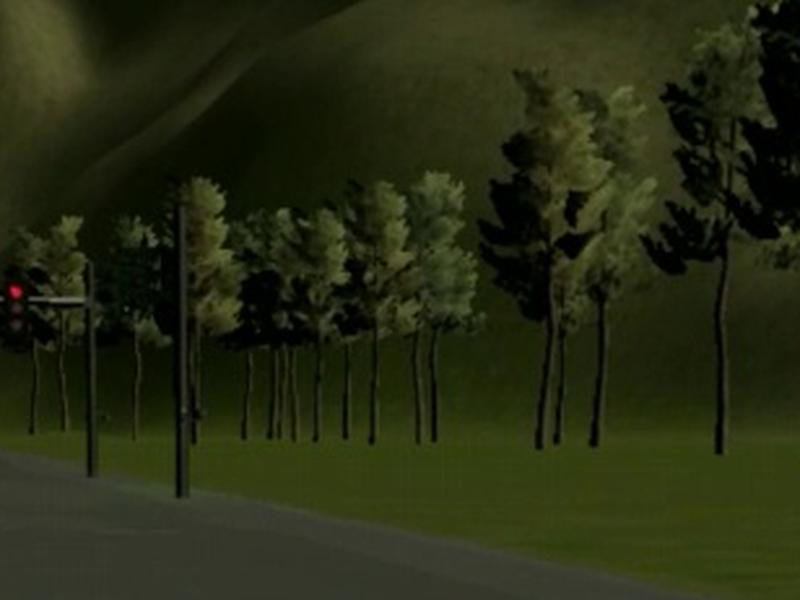Red: (2, 280, 28, 340)
